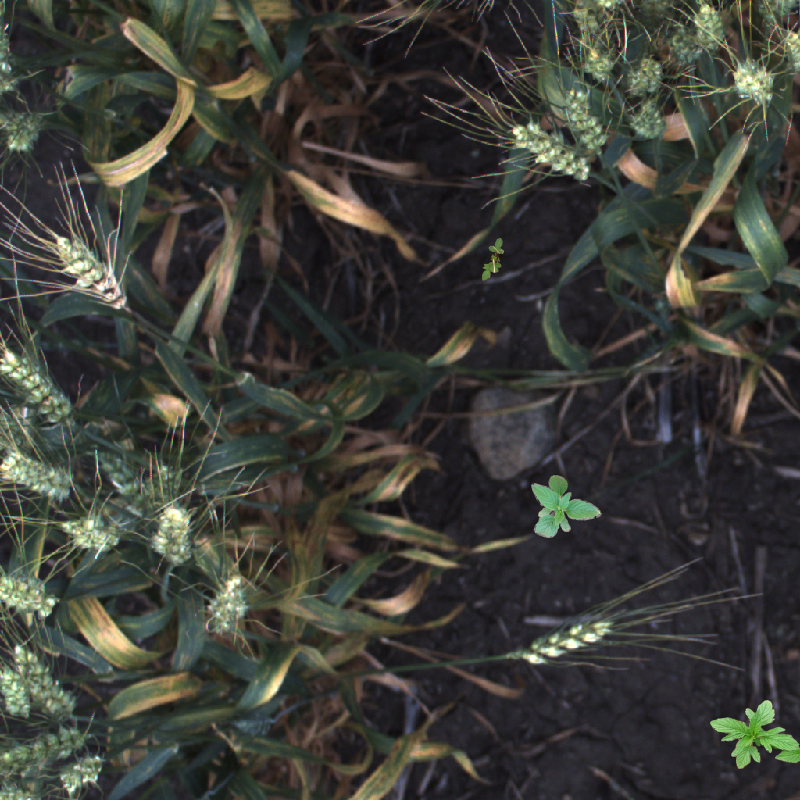spikelet: (1, 331, 76, 416), (49, 230, 127, 310), (509, 123, 596, 183), (521, 613, 614, 665), (1, 721, 88, 773), (10, 648, 72, 715), (559, 90, 618, 151), (2, 456, 68, 496), (1, 570, 60, 614), (152, 513, 197, 569), (207, 575, 249, 625), (97, 452, 145, 492), (64, 514, 113, 551), (567, 1, 614, 36), (732, 60, 773, 100), (623, 60, 664, 98), (693, 4, 727, 49), (59, 756, 109, 786), (1, 667, 28, 720), (6, 112, 41, 150), (579, 46, 614, 82), (625, 102, 660, 133), (146, 469, 178, 502), (664, 32, 694, 60), (780, 31, 800, 67)
weed: (710, 700, 800, 769), (531, 475, 602, 538), (482, 238, 504, 281)
